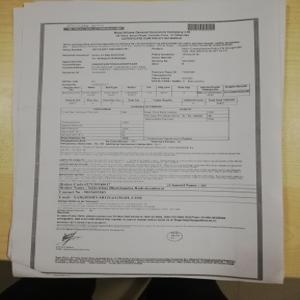table: (61, 103, 231, 142), (61, 81, 249, 106)
text: (58, 37, 242, 83)
